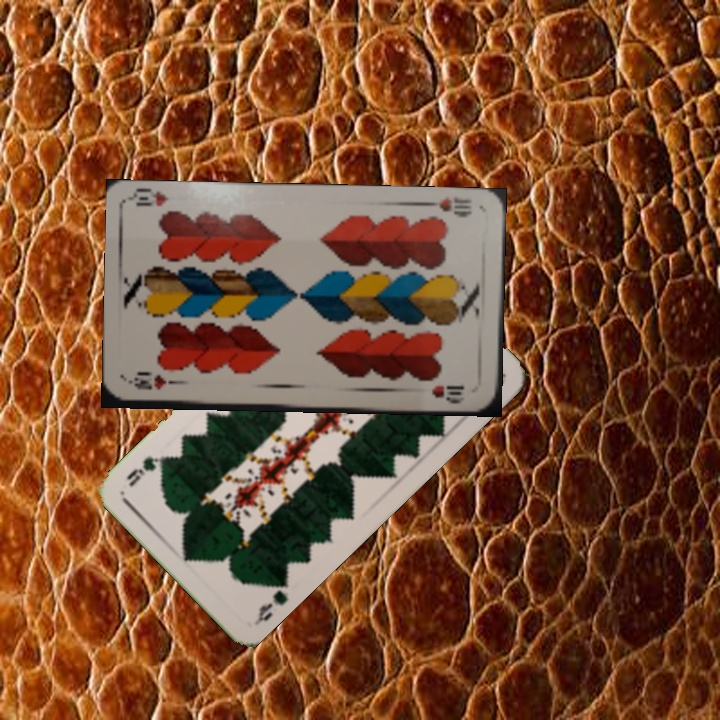G9: (251, 574, 292, 627)
H10: (421, 194, 475, 220), (126, 373, 186, 392)
